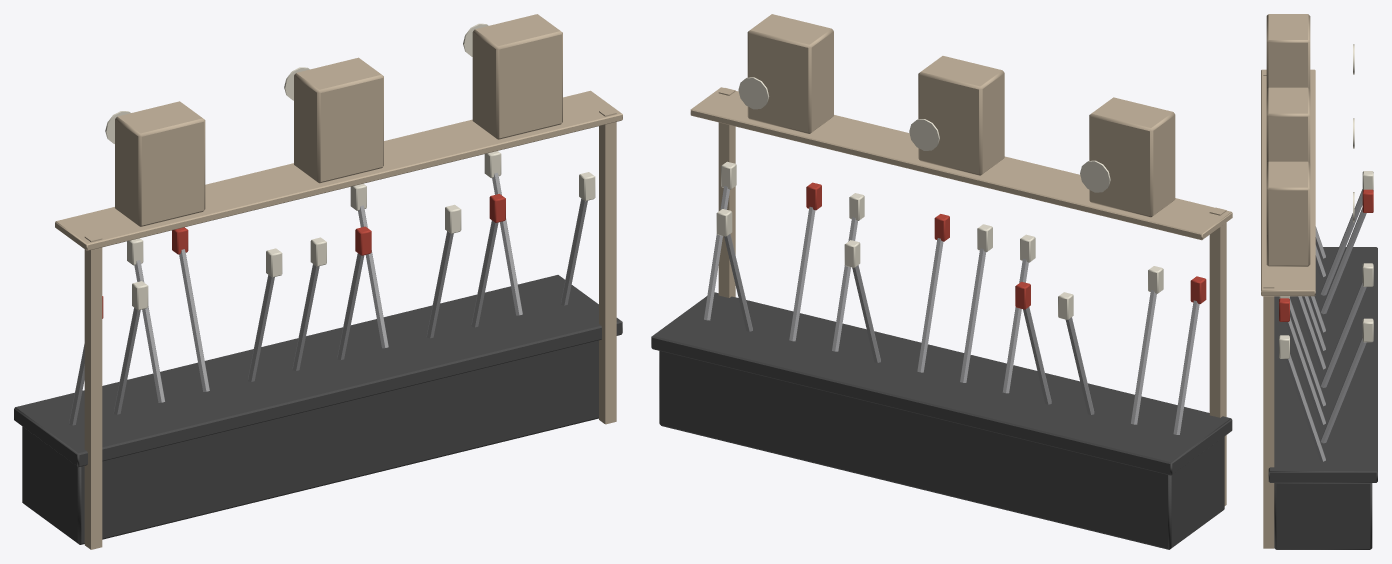
Rendered from lever_frame.glb.
3 views of the same model, side by side, from view 1: azimuth 30°, elevation 25°; view 2: azimuth 150°, elevation 25°; view 3: azimuth 270°, elevation 25° (orthographic). The views are drawn at different scales.
Parts seen in each view (by area): view 1: static; view 2: static; view 3: static.
Boxes of the visible parts, x1,y1,x2,y2 form: static: (14,14,622,549); static: (651,14,1232,549); static: (1261,14,1377,549).
Size of the model in its own units: 2.44 by 1.72 by 0.535.
